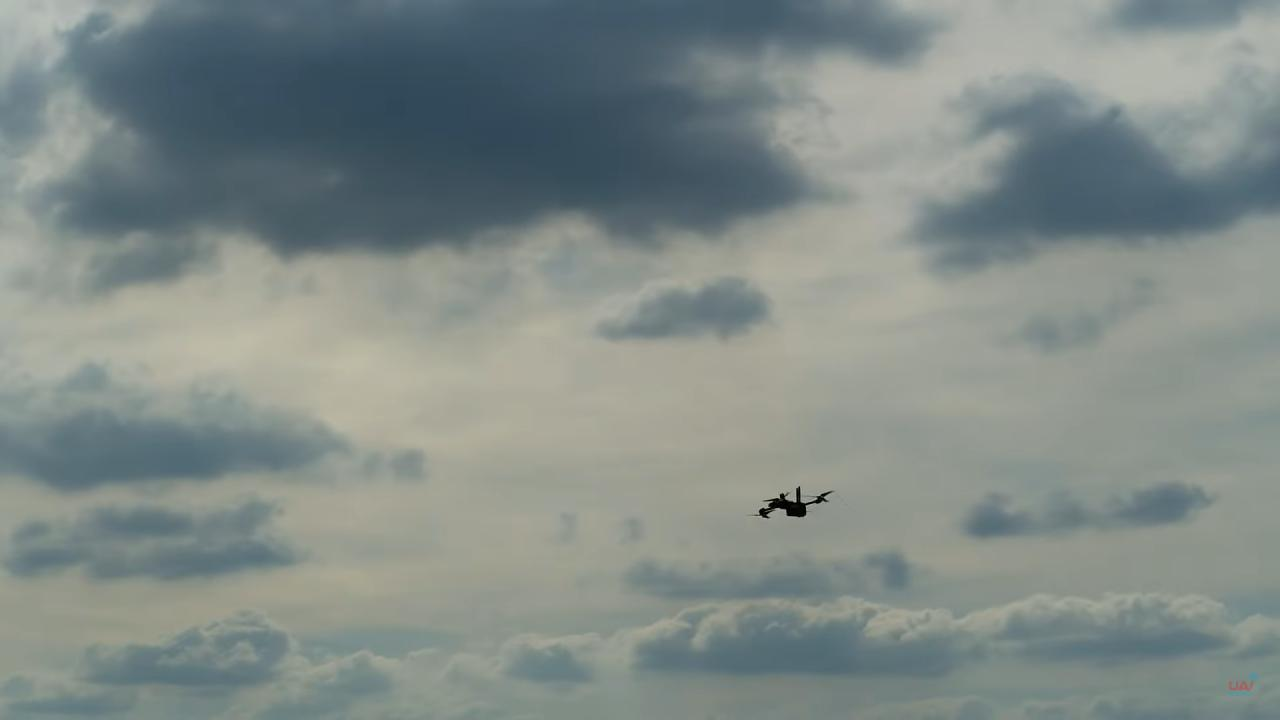Drone: (738, 474, 847, 534)
